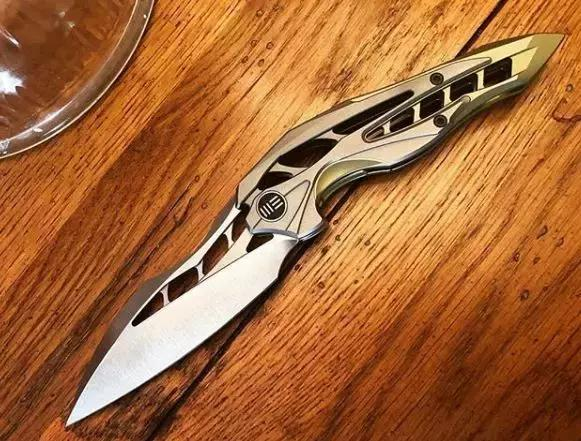knief: (59, 34, 575, 423)
